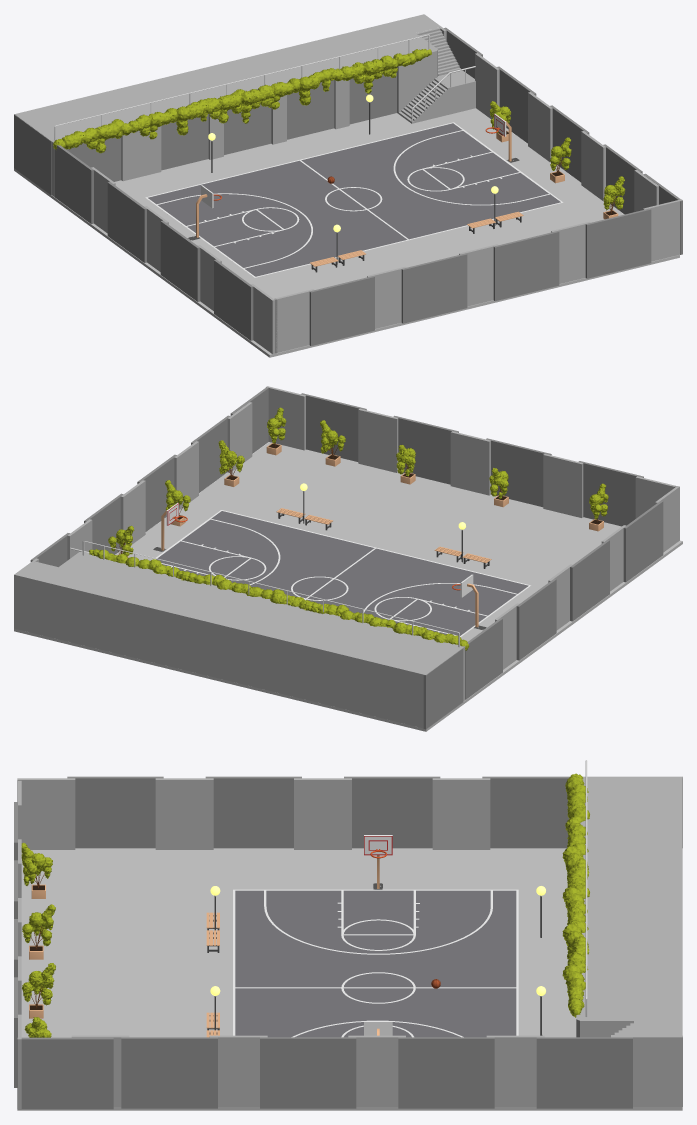
The model's file is Basket Ball NO_1.fbx.
3 views of the same model, one above another, from view 1: azimuth 30°, elevation 25°; view 2: azimuth 150°, elevation 25°; view 3: azimuth 270°, elevation 25° (orthographic). The views are drawn at different scales.
Visible parts, largest first — view 1: Cube, Cube_5, Volume_Mesher_2, Volume_Mesher, Cube_1_1_7, Cube_1_3_8, Cube_1_2_8, Cube_1_0_7, Cube_1_2_6, Cube_1_3_6, Cube_1_1_5, Cube_1_0_5 (+22 smaller); view 2: Cube, Cube_5, Cube_1_1_7, Cube_1_2_8, Cube_1_3_8, Cube_1_0_7, Cube_1_1_5, Cube_1_3_6, Cube_1_1_8, Cube_1_2_9, Cube_1_2_6, Cube_1_3_9 (+23 smaller); view 3: Cube, Cube_5, Cube_1_0_3, Cube_1_1_3, Cube_1_2_4, Cube_1_3_4, Cube_1_12, Cube_1_3_6, Cube_1_2_6, Cube_1_0_5, Cube_1_1_5, Cube_1_1_6 (+19 smaller).
Part boxes in pixels (bbox=[...]): Cube: bbox=[14, 108, 679, 357]; Cube_5: bbox=[14, 20, 437, 196]; Volume_Mesher_2: bbox=[188, 49, 431, 123]; Volume_Mesher: bbox=[53, 79, 300, 153]; Cube_1_1_7: bbox=[401, 253, 467, 323]; Cube_1_3_8: bbox=[585, 208, 651, 278]; Cube_1_2_8: bbox=[493, 231, 559, 301]; Cube_1_0_7: bbox=[309, 276, 374, 345]; Cube_1_2_6: bbox=[160, 220, 200, 301]; Cube_1_3_6: bbox=[214, 259, 253, 340]; Cube_1_1_5: bbox=[107, 182, 146, 262]; Cube_1_0_5: bbox=[54, 145, 93, 223]; Cube: bbox=[14, 442, 682, 731]; Cube_5: bbox=[39, 551, 465, 728]; Cube_1_1_7: bbox=[486, 438, 551, 507]; Cube_1_2_8: bbox=[393, 415, 458, 484]; Cube_1_3_8: bbox=[301, 393, 366, 461]; Cube_1_0_7: bbox=[578, 461, 643, 526]; Cube_1_1_5: bbox=[516, 579, 556, 660]; Cube_1_3_6: bbox=[623, 501, 663, 582]; Cube_1_1_8: bbox=[543, 454, 583, 517]; Cube_1_2_9: bbox=[450, 431, 490, 495]; Cube_1_2_6: bbox=[570, 540, 609, 621]; Cube_1_3_9: bbox=[358, 408, 398, 472]; Cube: bbox=[17, 848, 682, 1110]; Cube_5: bbox=[576, 776, 682, 1037]; Cube_1_0_3: bbox=[121, 1037, 217, 1108]; Cube_1_1_3: bbox=[260, 1037, 356, 1108]; Cube_1_2_4: bbox=[398, 1037, 494, 1108]; Cube_1_3_4: bbox=[536, 1037, 632, 1108]; Cube_1_12: bbox=[17, 1037, 113, 1109]; Cube_1_3_6: bbox=[67, 776, 163, 848]; Cube_1_2_6: bbox=[205, 776, 301, 848]; Cube_1_0_5: bbox=[482, 776, 570, 848]; Cube_1_1_5: bbox=[344, 776, 440, 848]; Cube_1_1_6: bbox=[432, 778, 490, 849].
Bounding box in the file's own units: 3233 × 529 × 3470.
Materials: 14 (1 with a texture image).
